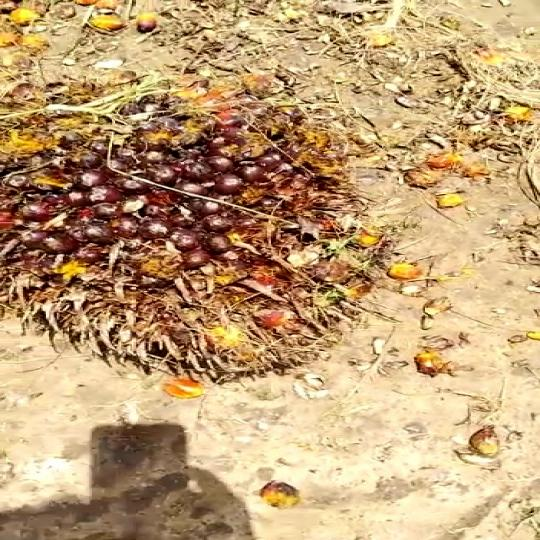masak: (0, 52, 394, 405)
